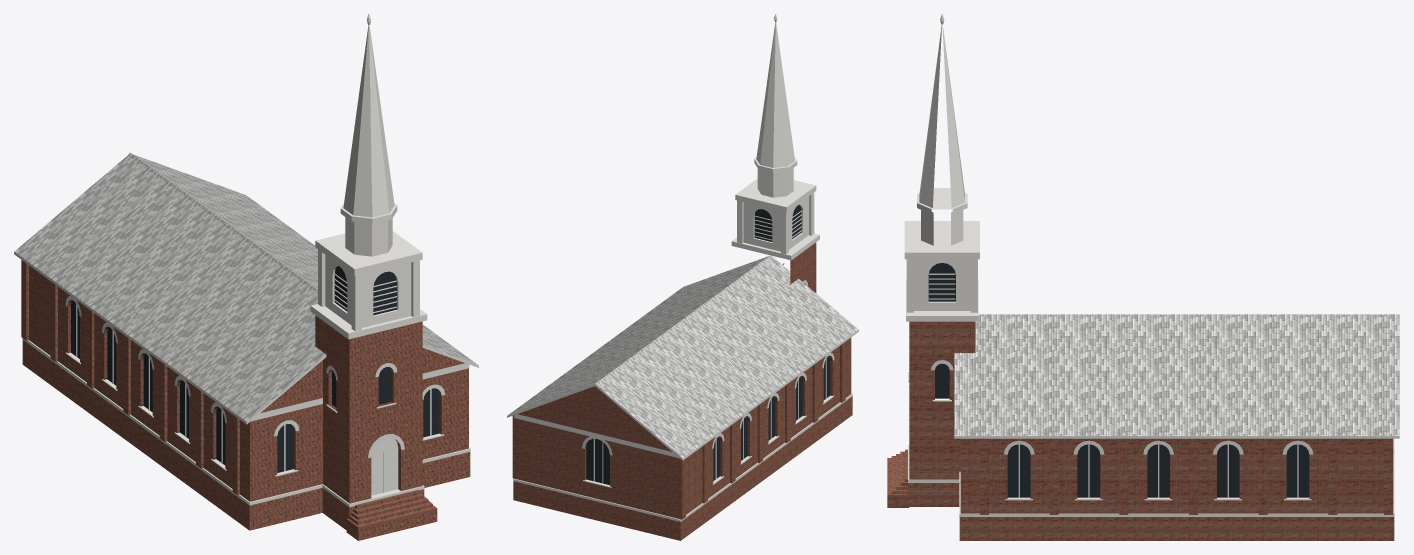
Rendered from church-brick.glb.
The picture shows the model from 3 angles, left to right: view 1: azimuth 30°, elevation 25°; view 2: azimuth 150°, elevation 25°; view 3: azimuth 270°, elevation 25°; orthographic projection. The views are drawn at different scales.
Parts seen in each view (by area): view 1: church-brick; view 2: church-brick; view 3: church-brick.
Part boxes in pixels (<box>): church-brick: <box>14,14,478,540</box>; church-brick: <box>507,14,858,540</box>; church-brick: <box>887,14,1399,540</box>.
Bounding box in the file's own units: 14 × 28.6 × 27.95.
Materials: 5 (2 with a texture image).
